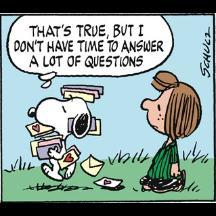snoopy: (27, 93, 94, 183)
